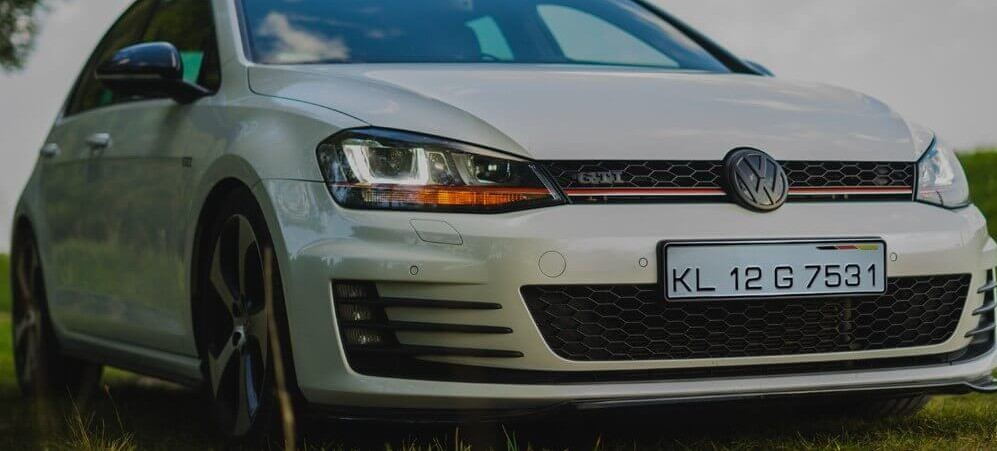KL12G7531: (663, 239, 887, 300)
